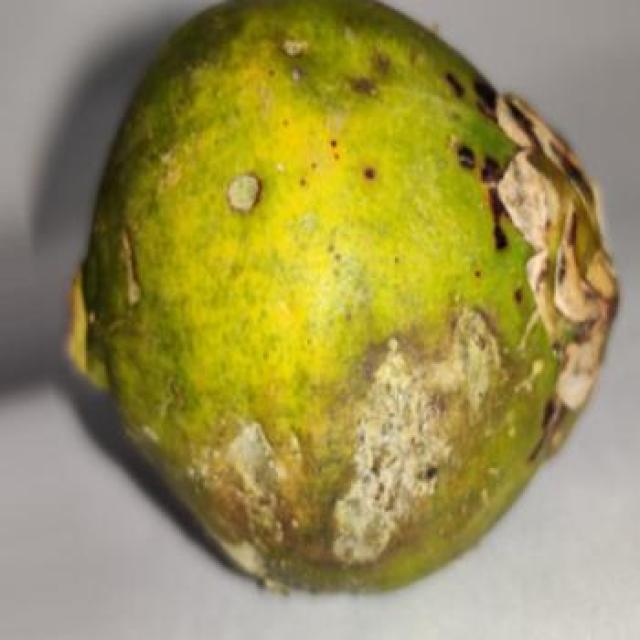damaged: (60, 0, 618, 598)
